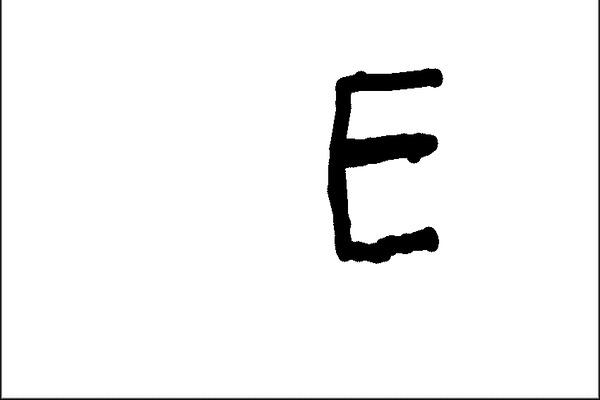E: (319, 62, 450, 265)
